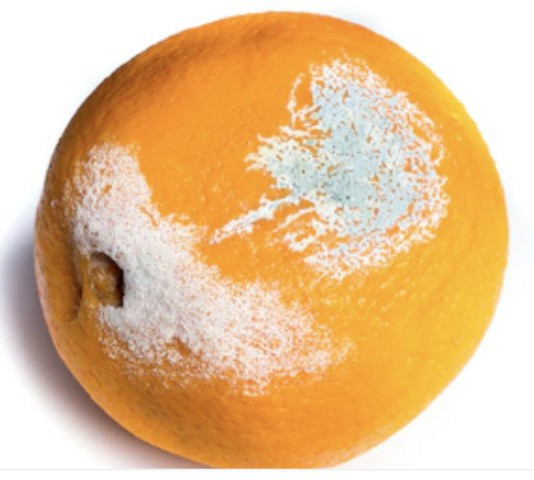rotten_orange: (33, 14, 505, 465)
